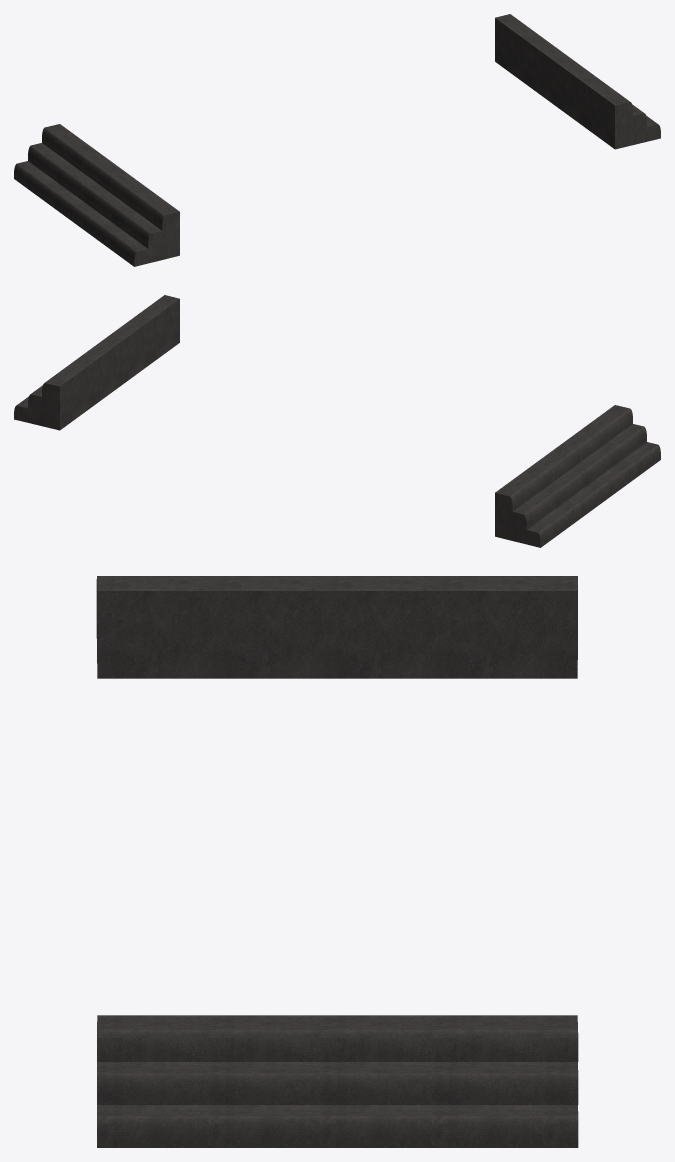
File: board-stairs.glb
The picture shows the model from 3 angles, top to bottom: view 1: azimuth 30°, elevation 25°; view 2: azimuth 150°, elevation 25°; view 3: azimuth 270°, elevation 25°; orthographic projection. The views are drawn at different scales.
Visible parts, largest first — view 1: lesnitsa; view 2: lesnitsa; view 3: lesnitsa.
Boxes of the visible parts, left/top/right/bottom form: lesnitsa: left=14, top=14, right=660, bottom=266; lesnitsa: left=14, top=295, right=660, bottom=547; lesnitsa: left=96, top=576, right=578, bottom=1147.
Size of the model in its own units: 0.7534 by 0.06 by 0.2982.
1 material, 1 textured.
